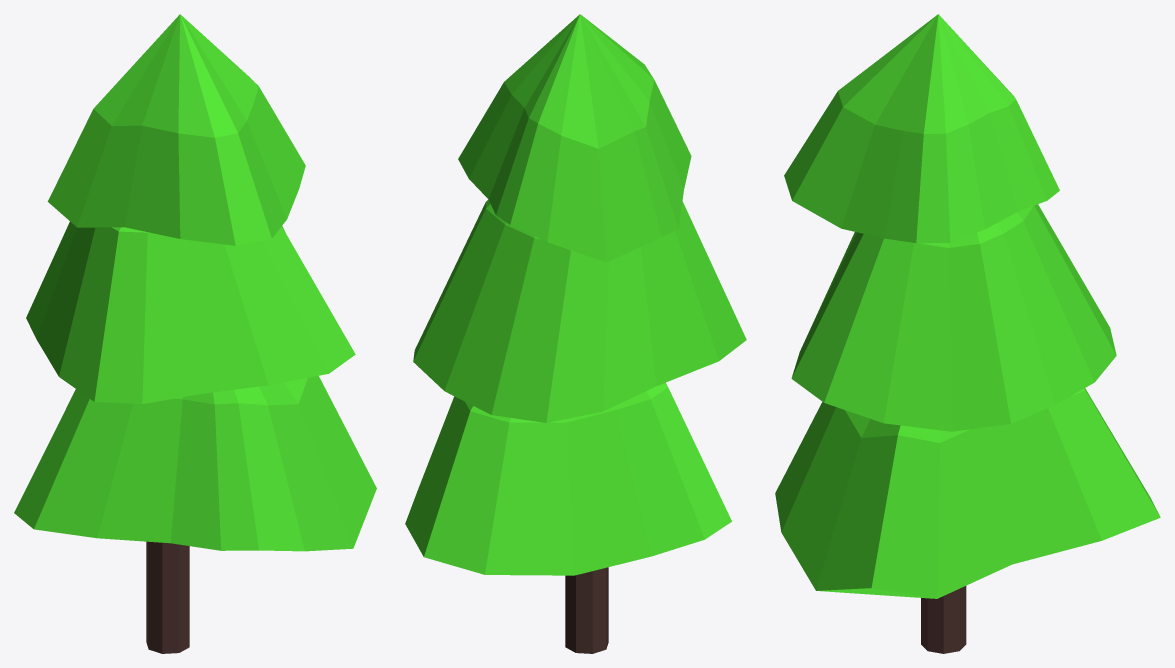
Rendered from TREE1.fbx.
3 views of the same model, side by side, from view 1: azimuth 30°, elevation 25°; view 2: azimuth 150°, elevation 25°; view 3: azimuth 270°, elevation 25° (orthographic).
Visible parts, largest first — view 1: Circle, Circle.003, Circle.001, Cylinder; view 2: Circle.003, Circle, Circle.001, Cylinder; view 3: Circle, Circle.003, Circle.001, Cylinder.
Boxes of the visible parts, box(x1,y1,x2,y2) form: Circle: box(14, 376, 376, 551); Circle.003: box(26, 221, 355, 404); Circle.001: box(47, 14, 305, 245); Cylinder: box(146, 541, 189, 653); Circle.003: box(413, 199, 746, 422); Circle: box(405, 383, 731, 575); Circle.001: box(458, 14, 691, 262); Cylinder: box(565, 567, 608, 653); Circle: box(775, 388, 1160, 598); Circle.003: box(791, 204, 1116, 431); Circle.001: box(784, 14, 1059, 243); Cylinder: box(921, 586, 966, 653).
Size of the model in its own units: 213 by 409 by 225.
